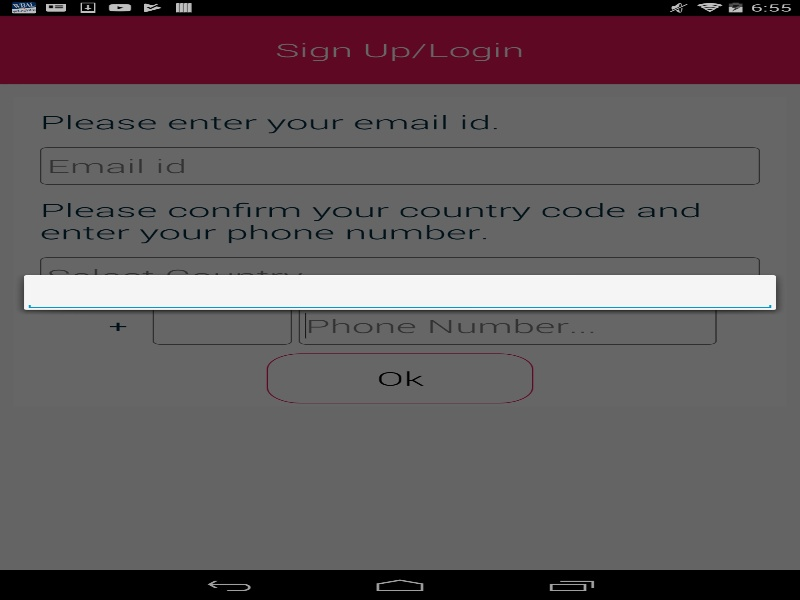Input: (24, 20, 776, 55)
